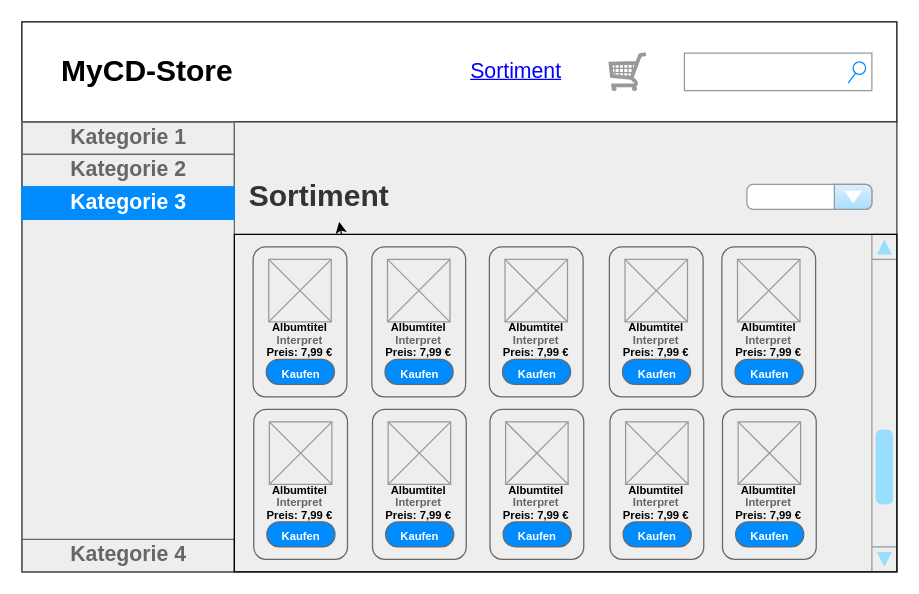
This 919x594 diagram has some shape labels left out. The shapes that lost their labels are listed below. From the top down, each one's centre as x and y in pixels, then its label:
At [777,71]: "Search".
At [571,152]: "0-9 A B C D E F G H I J K L M N O P Q R S T U V X Y Z".
At [809,196]: "Sort by".
